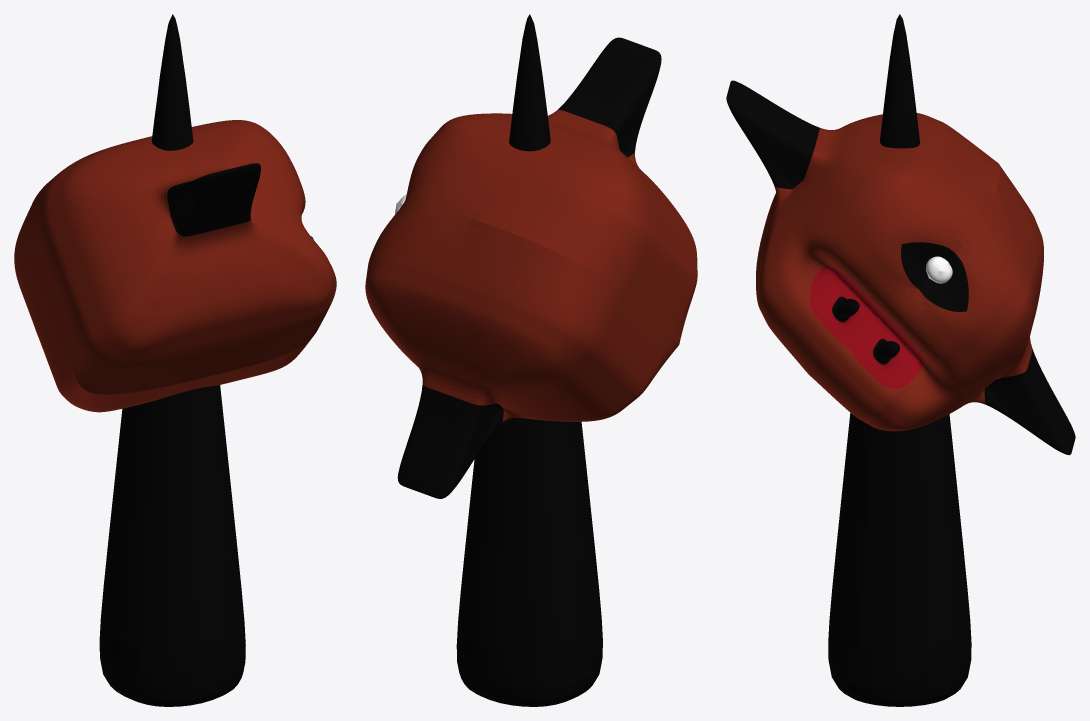
File: MonstreTete spawner.fbx
The picture shows the model from 3 angles, left to right: view 1: azimuth 30°, elevation 25°; view 2: azimuth 150°, elevation 25°; view 3: azimuth 270°, elevation 25°; orthographic projection.
Visible parts, largest first — view 1: Cube.001; view 2: Cube.001; view 3: Cube.001.
Part boxes in pixels (<box>): Cube.001: <box>14,14,336,706</box>; Cube.001: <box>365,14,697,706</box>; Cube.001: <box>726,14,1075,706</box>.
Bounding box in the file's own units: 141 × 362 × 170.
